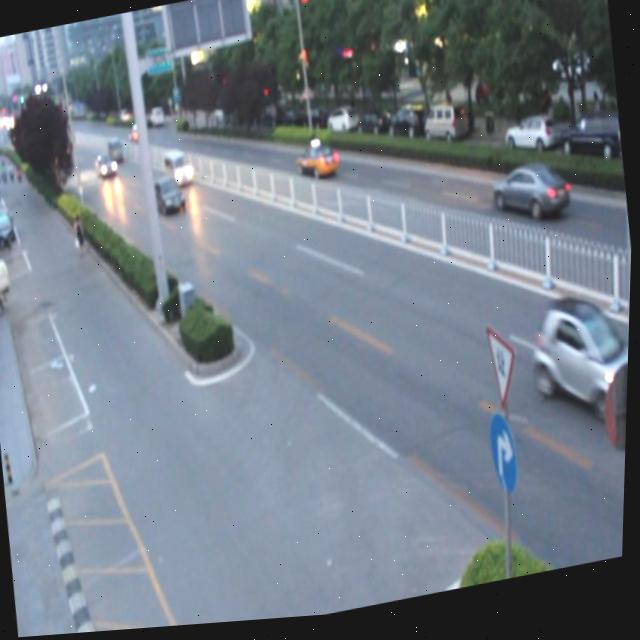car: (526, 294, 632, 437), (487, 162, 572, 236), (296, 143, 339, 187), (152, 178, 184, 217)
truck: (162, 149, 193, 191)
